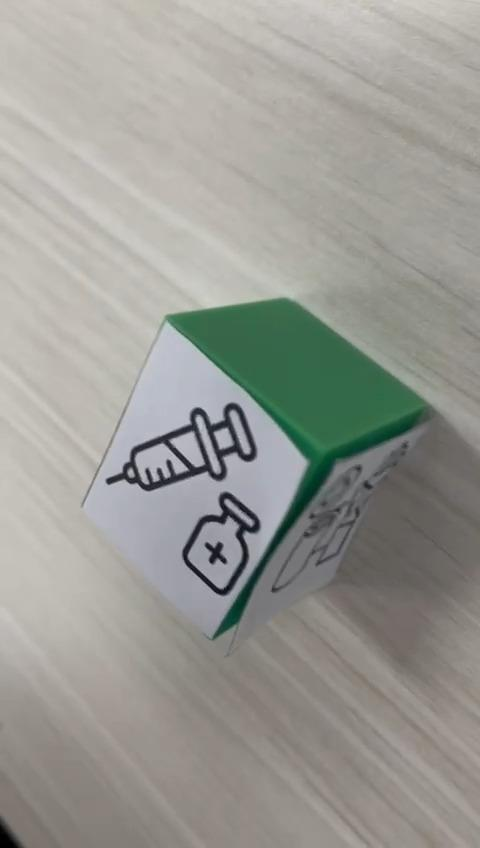antiseptic cream: (83, 297, 427, 640)
